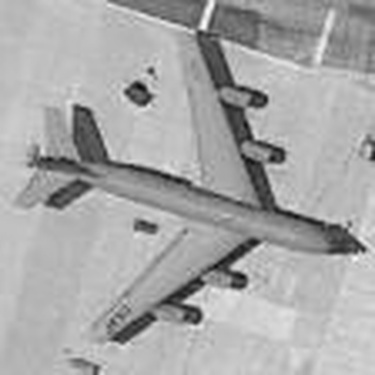airplane: (1, 13, 351, 352)
